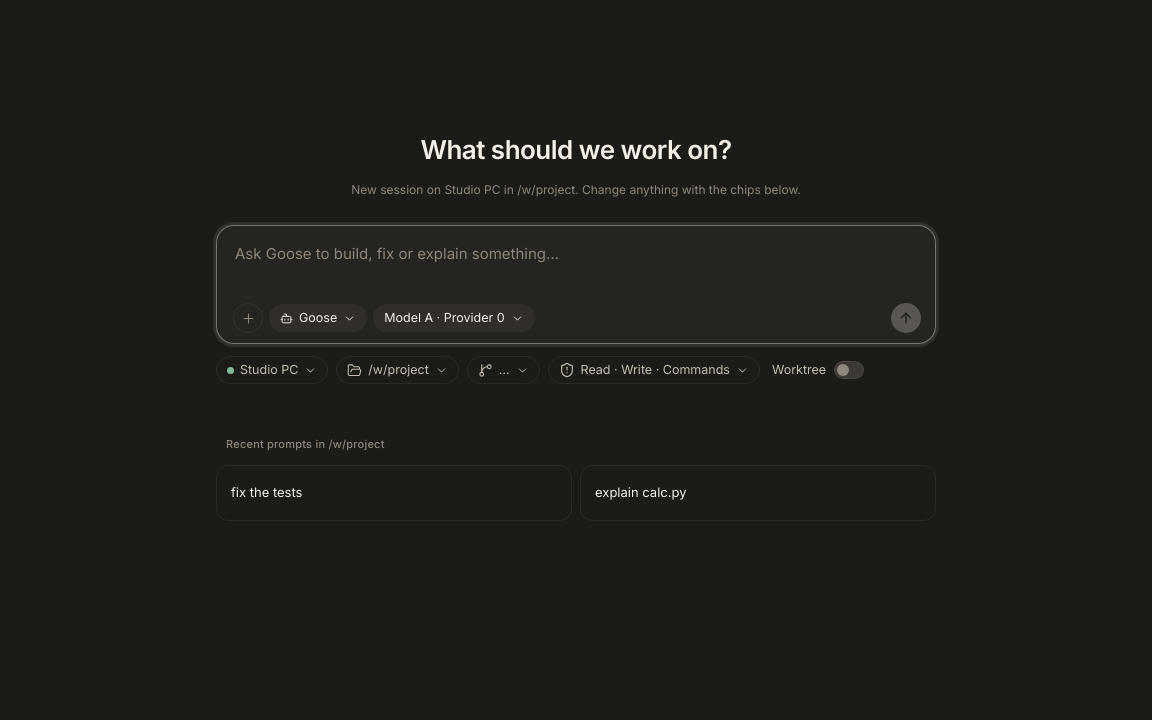
Scenario: models and options before the first session › Escape in an option list goes back to the rows; Back does too
The image size is (1152, 720).
Click the button "Model A · Provider 0" at (454, 318), box [373,304,535,332]
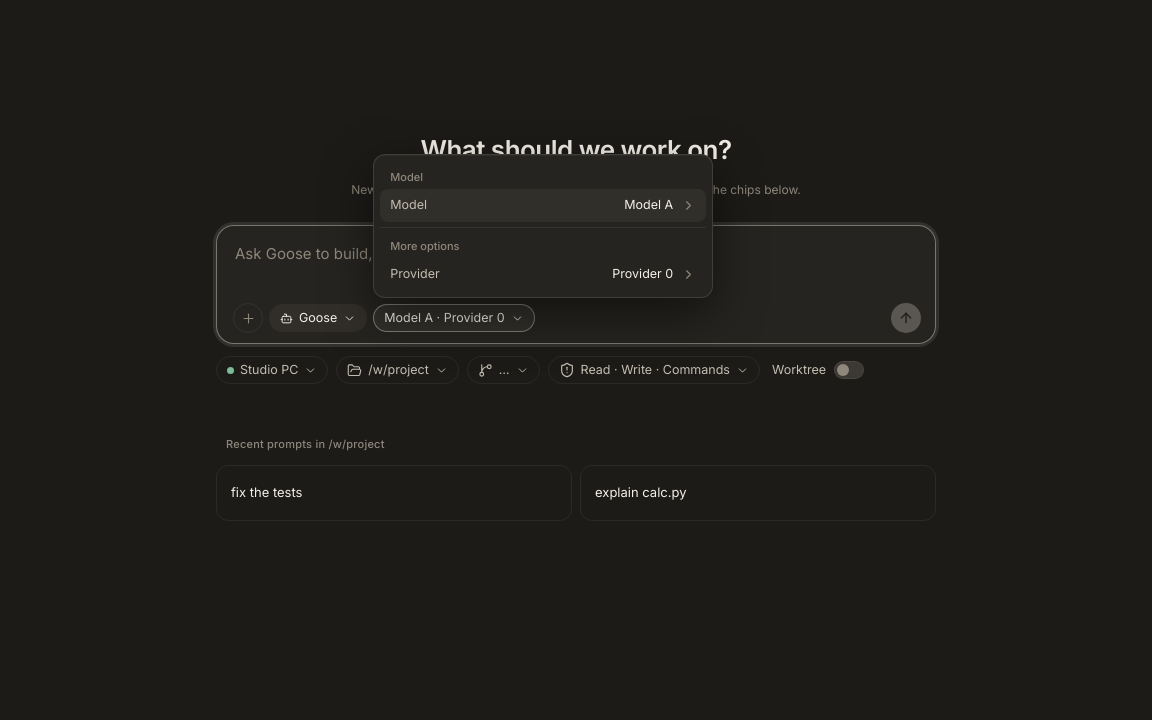
Expected: the text "Provider 5" is not shown
Click the button with aria-label "Provider: Provider 0" at (415, 274), box [380,258,706,291]
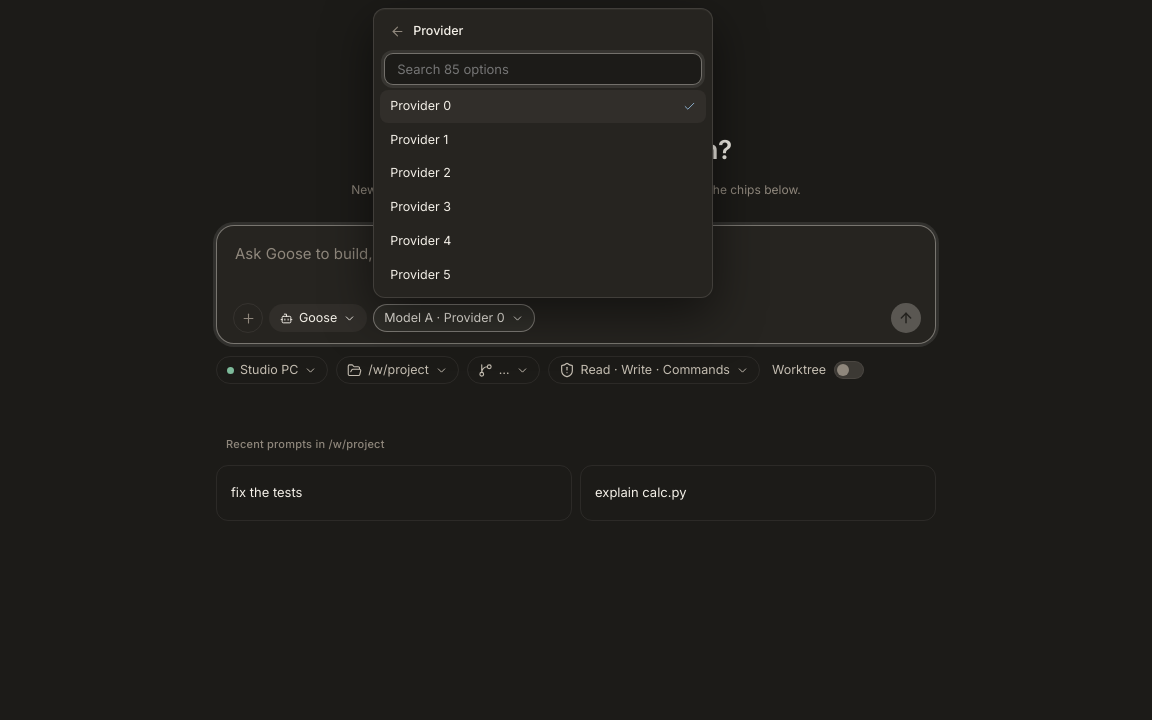
Press Escape in the field named "Search Provider", box [384,53,702,85]
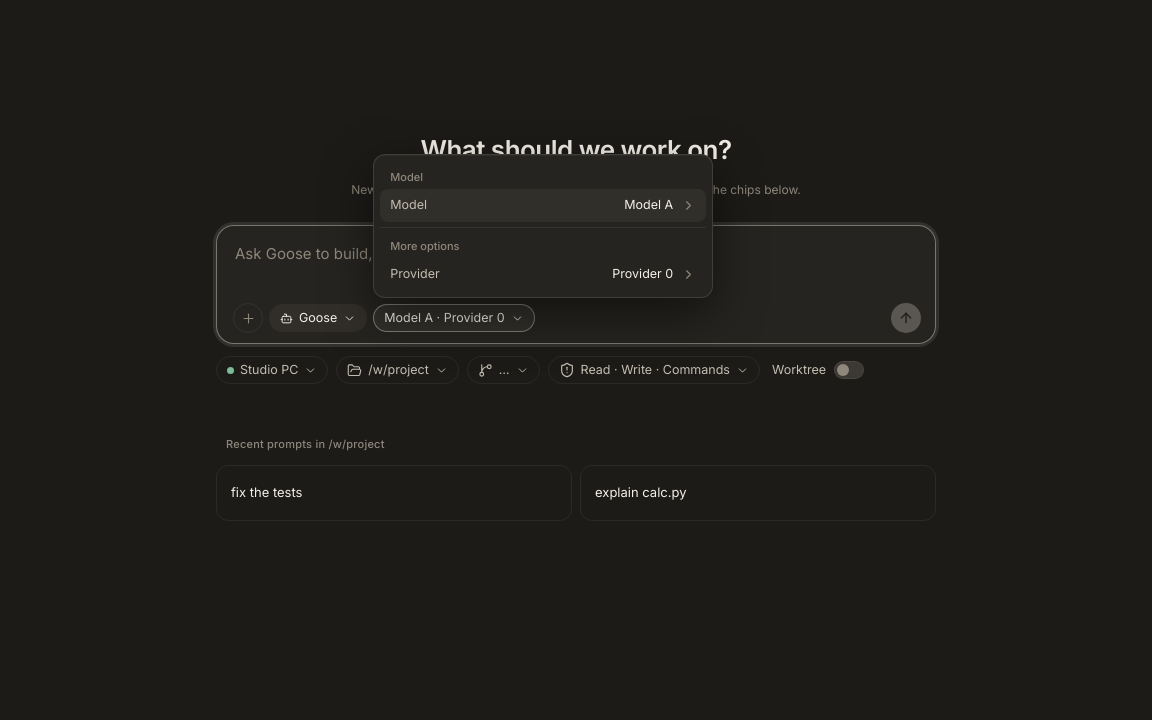
Expected: the button with aria-label "Model: Model A" is shown, [380,189,706,222]
Click the button with aria-label "Provider: Provider 0" at (415, 274), box [380,258,706,291]
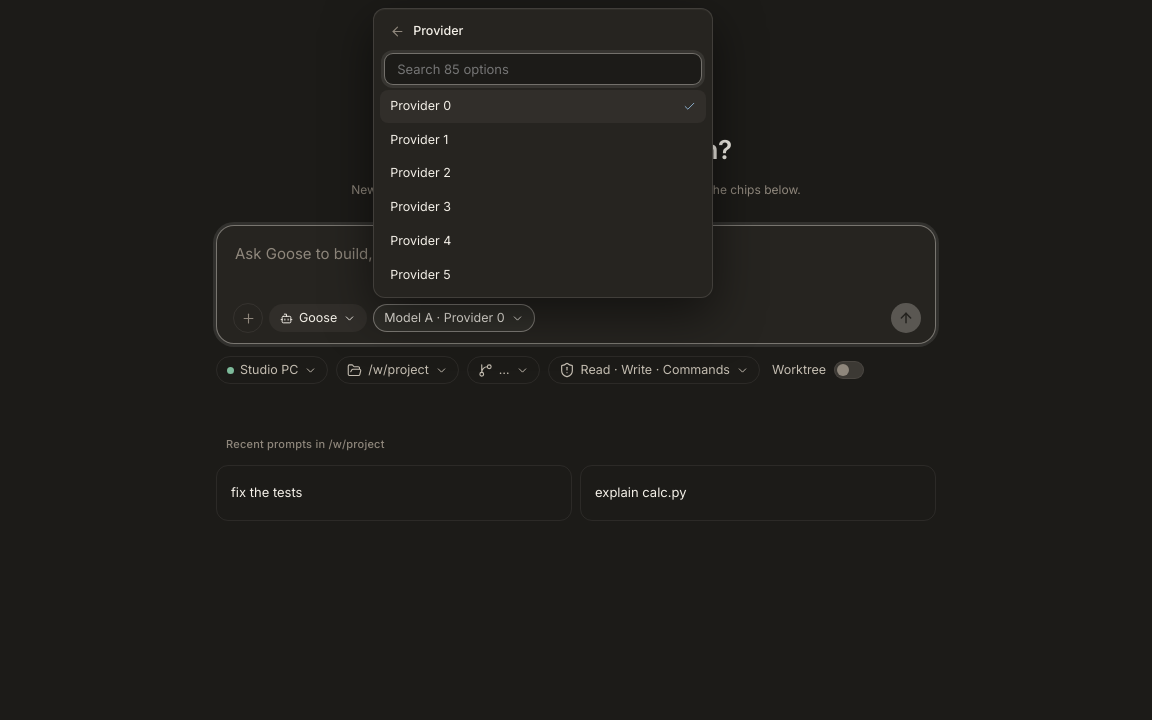
Click the button with aria-label "Back to options (Provider)" at (438, 31), box [380,15,706,48]
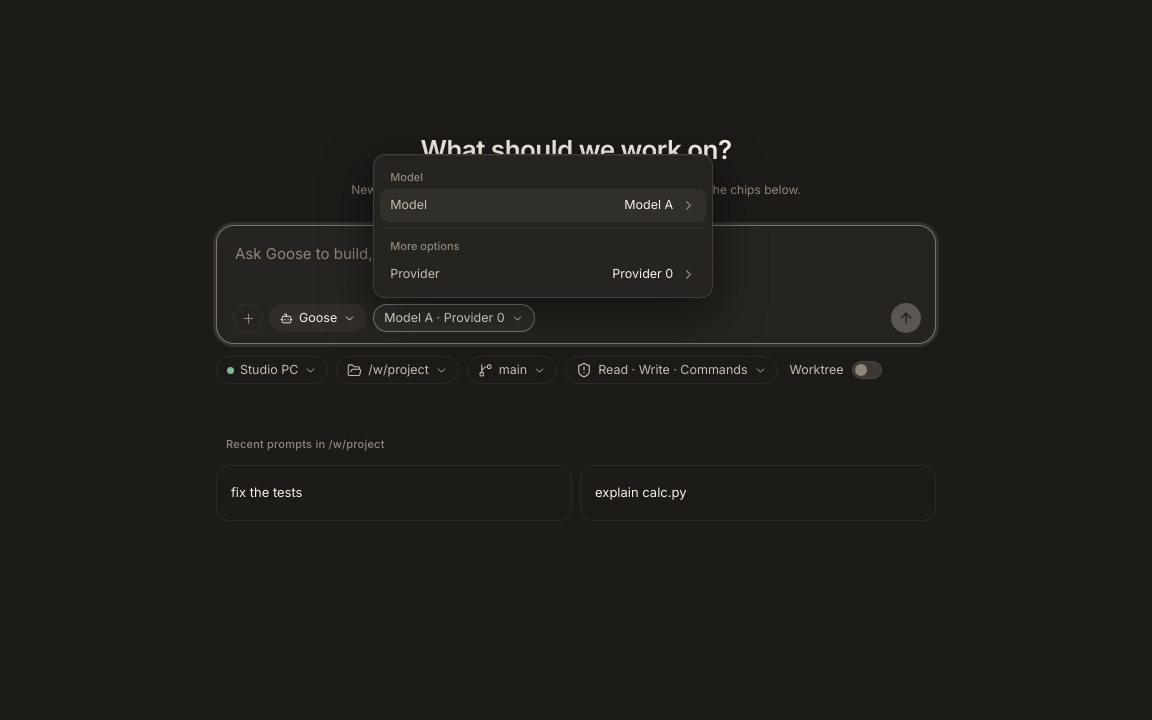
Expected: the field labelled "Search Provider" is gone
